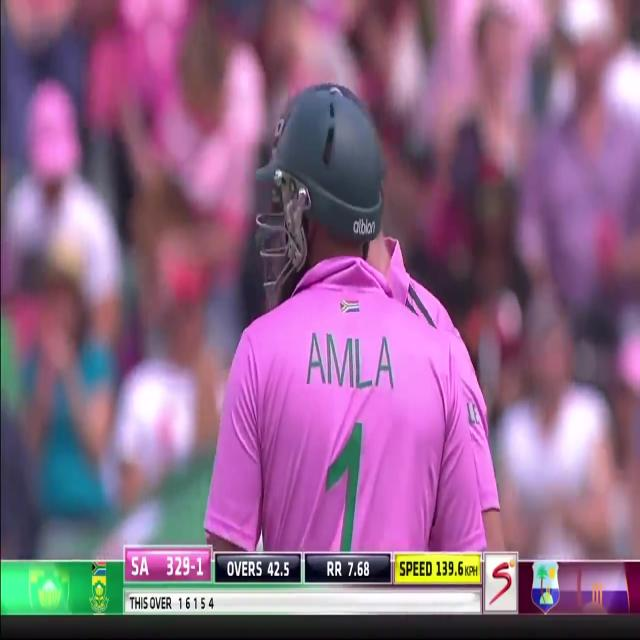Ball: (204, 83, 501, 557)
